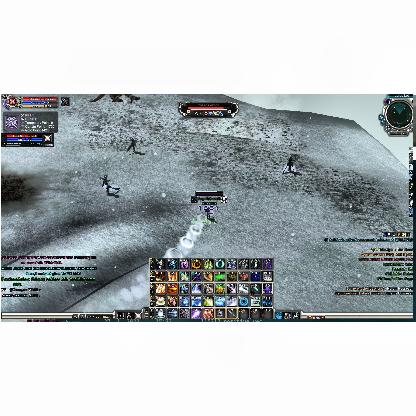caliana: (99, 177, 119, 196), (282, 156, 296, 176), (126, 138, 136, 152)
